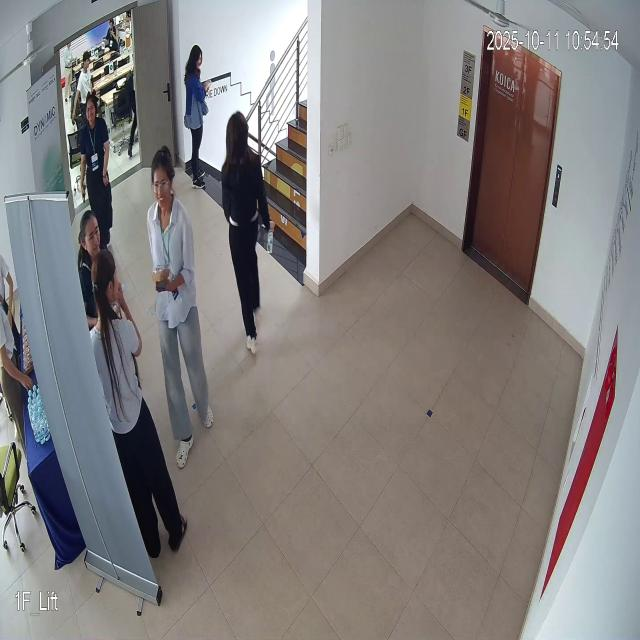face: (146, 144, 178, 214)
